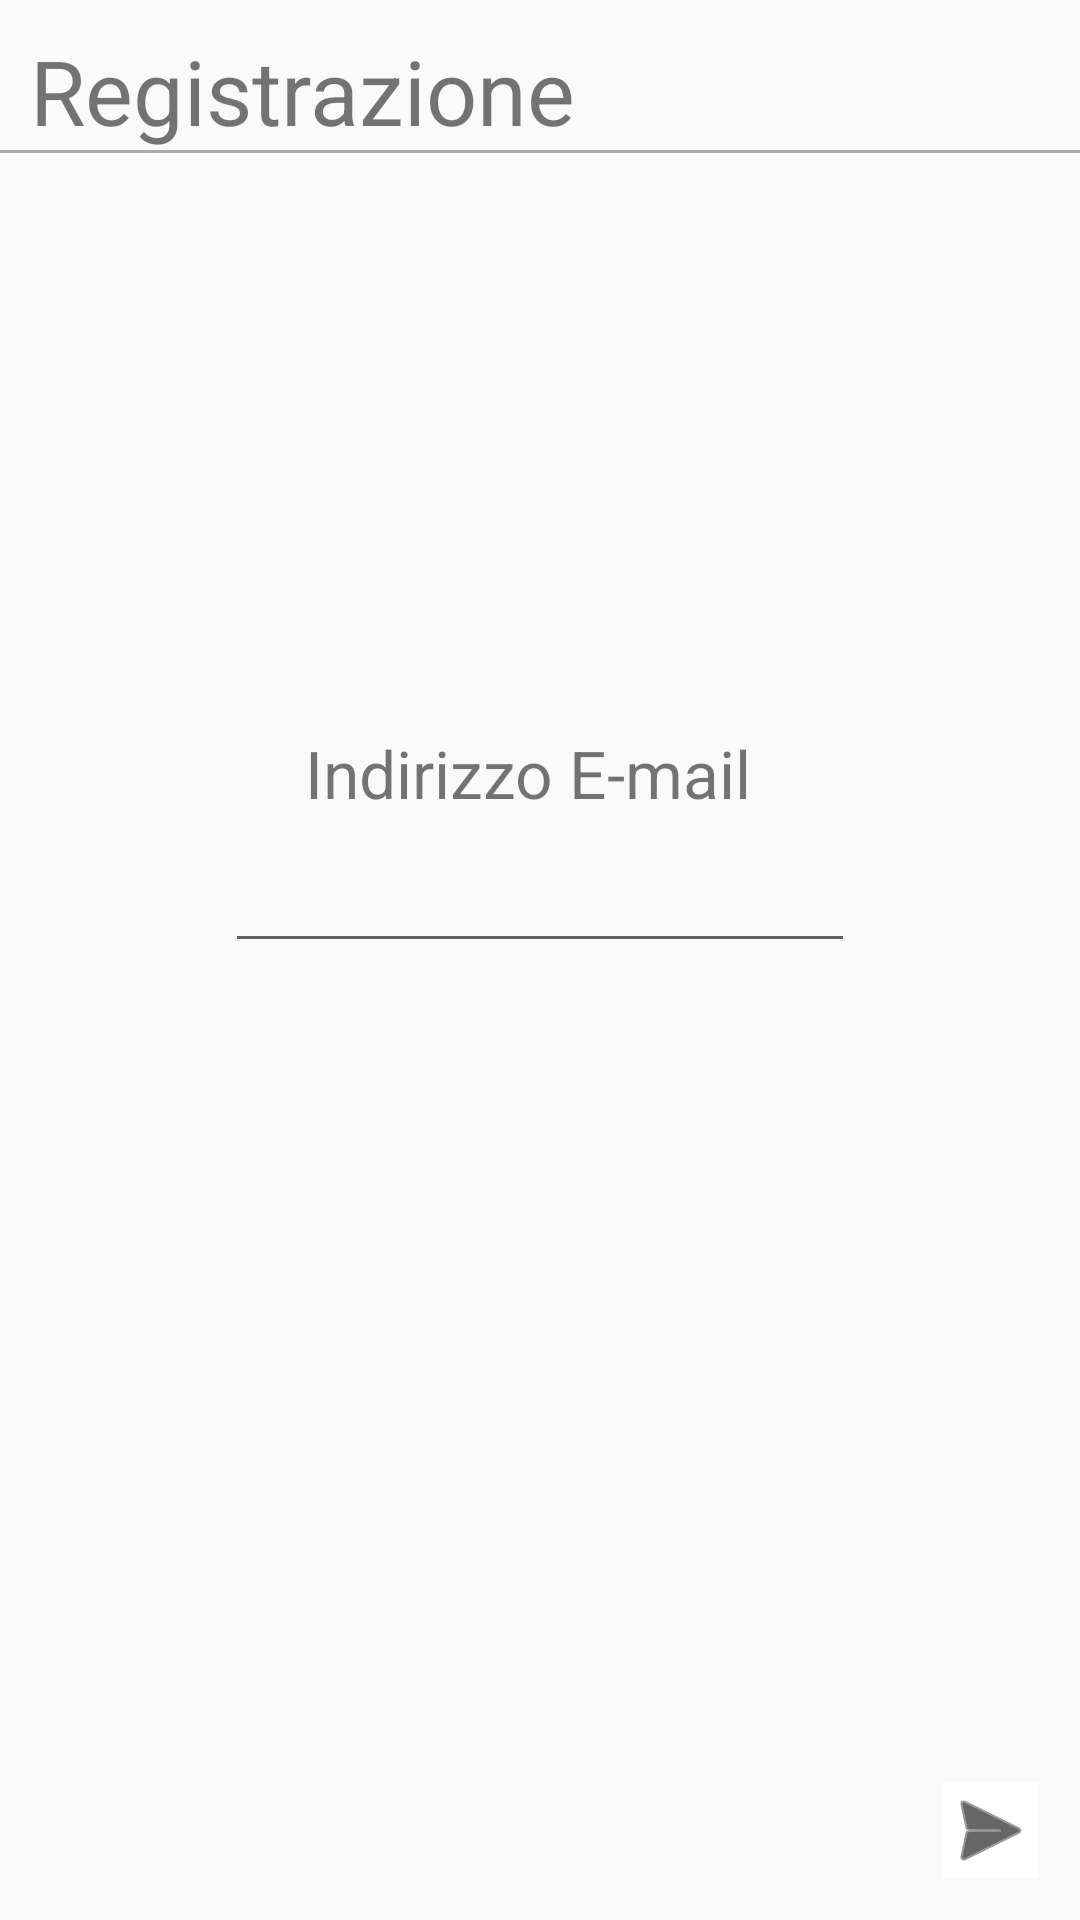

Where to tap for icons on this 1080w x 1920h app screen, as point (x, y):
send: point (991, 1830)
